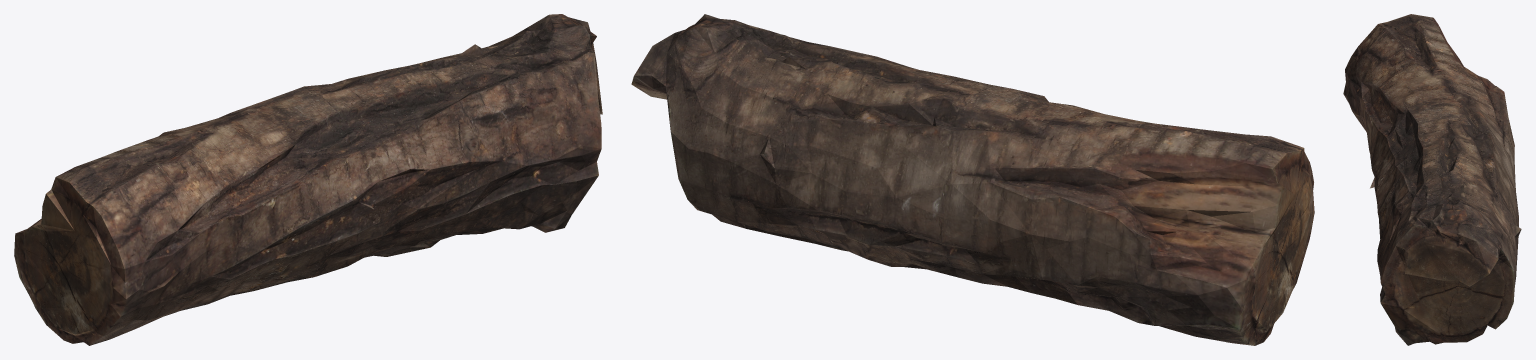
Rendered from Log.FBX.
3 views of the same model, side by side, from view 1: azimuth 30°, elevation 25°; view 2: azimuth 150°, elevation 25°; view 3: azimuth 270°, elevation 25° (orthographic). The views are drawn at different scales.
Parts seen in each view (by area): view 1: Log; view 2: Log; view 3: Log.
Boxes of the visible parts, x1=… form: Log: x1=14, y1=14, x2=602, y2=345; Log: x1=631, y1=14, x2=1314, y2=345; Log: x1=1343, y1=14, x2=1521, y2=345.
Size of the model in its own units: 18.23 by 5.65 by 5.92.
